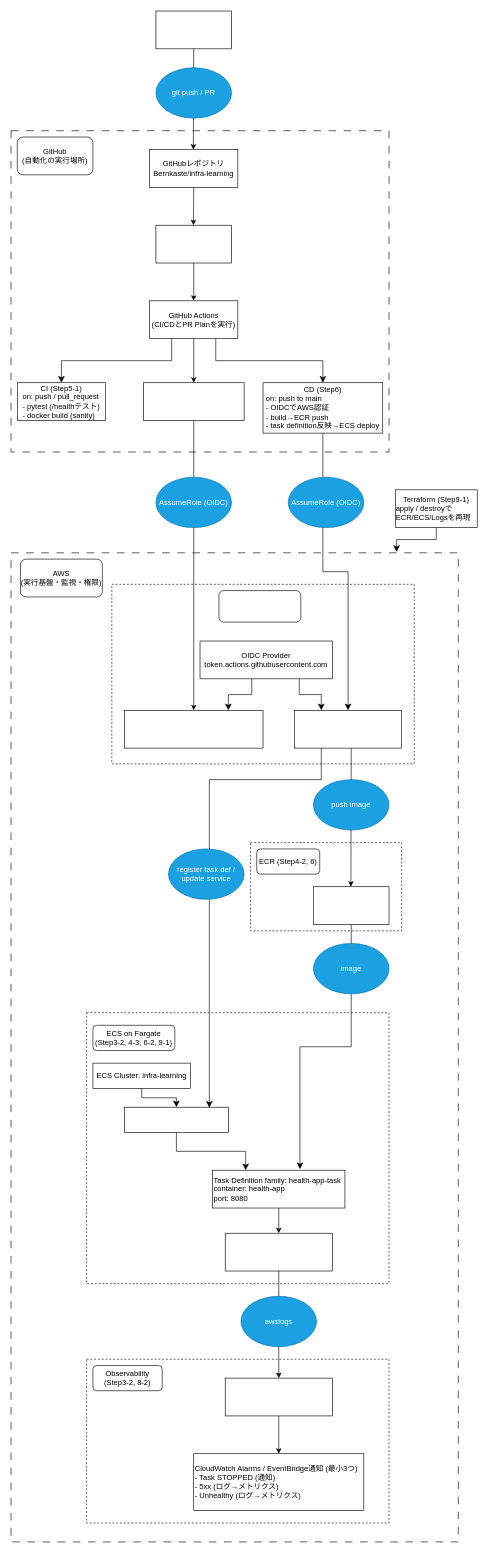
Image size: 488x1553. Some labels were removed from this diagram. Each missing label, with the box of its shape:
CloudWatch Logs Log Group /ecs/infra-learning/health-app: (225, 1377, 332, 1416)
ECR repo: health-app (イメージ保管): (313, 886, 389, 925)
ECS Service: health-app-svc: (124, 1107, 228, 1132)
Fargate Task (実行) Public IP enabled (ALBなし): (225, 1233, 332, 1271)
GitHub Actions: (155, 225, 232, 263)
IAM / Security (Step3-1, 6, 10-2): (218, 590, 301, 622)
Role: GitHub Actions用 (CD) Trust policyでrepo/branch制限: (294, 710, 402, 748)
Role: GitHub Actions用 (Terraform plan) -state (S3 / DynamoDB) ＋Read権限: (124, 710, 263, 748)
改善 (Step10-2) on: pull_request - terraform fmt/validate/plan - 結果をPRに可視化: (143, 382, 244, 421)
開発者: (155, 10, 232, 49)
